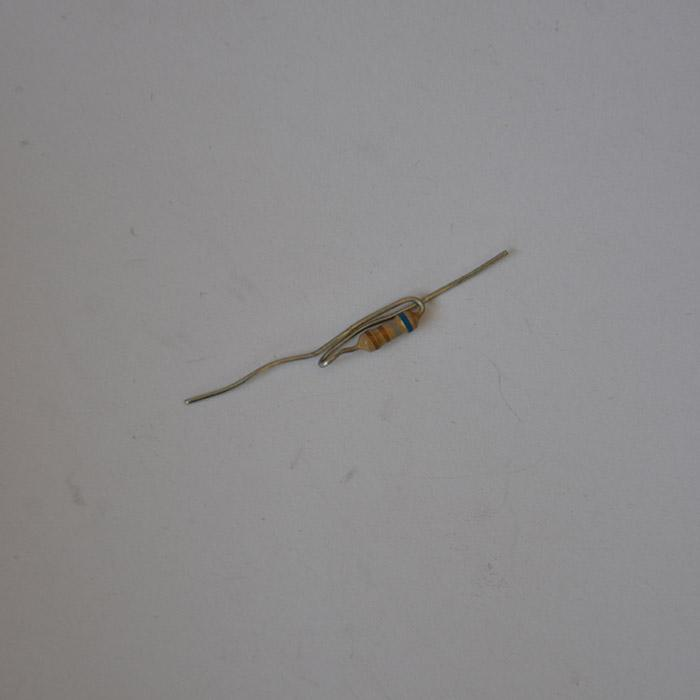resistor: (355, 307, 419, 353)
